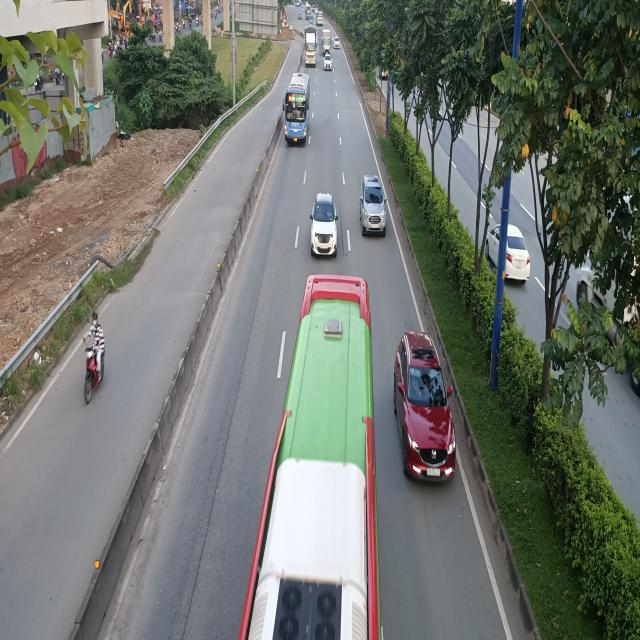car: (393, 332, 455, 487), (309, 192, 339, 258), (358, 176, 387, 238)
coach: (235, 276, 384, 640), (282, 72, 310, 146)
